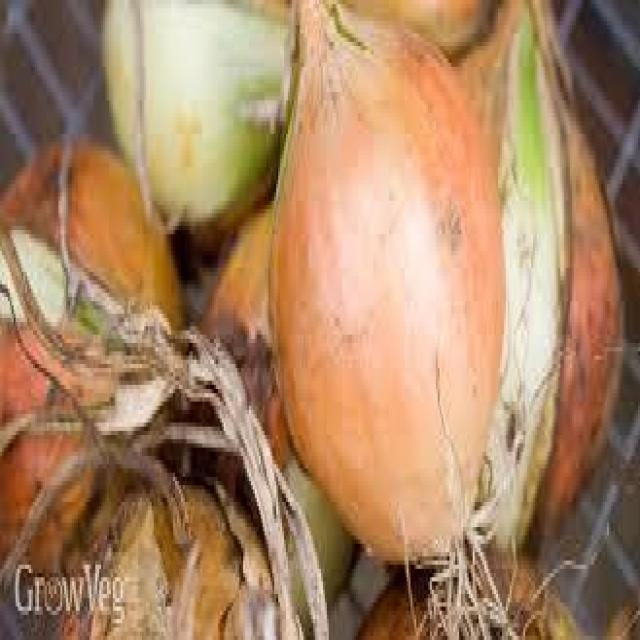Onion: (269, 4, 509, 640), (1, 130, 186, 586), (508, 0, 622, 540), (12, 477, 323, 640), (103, 2, 298, 224), (190, 203, 296, 521), (360, 548, 582, 640)
